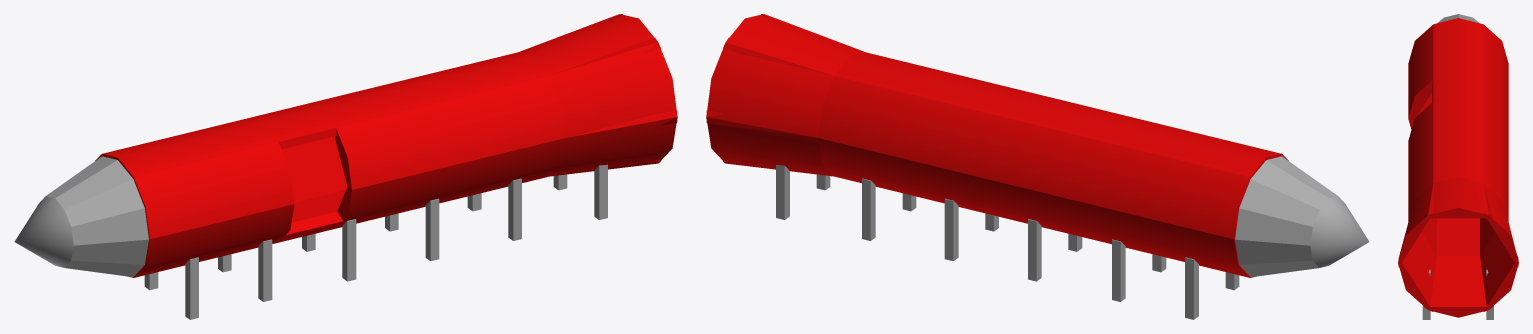
Rendered from SM_Bld_Bomb_01_Collision.fbx.
The picture shows the model from 3 angles, left to right: view 1: azimuth 30°, elevation 25°; view 2: azimuth 150°, elevation 25°; view 3: azimuth 270°, elevation 25°; orthographic projection. The views are drawn at different scales.
Parts seen in each view (by area): view 1: SM_Bld_Bomb_01_Collision; view 2: SM_Bld_Bomb_01_Collision; view 3: SM_Bld_Bomb_01_Collision.
Part boxes in pixels (bbox=[...]): SM_Bld_Bomb_01_Collision: bbox=[14, 14, 677, 319]; SM_Bld_Bomb_01_Collision: bbox=[706, 14, 1369, 319]; SM_Bld_Bomb_01_Collision: bbox=[1398, 14, 1518, 319].
Bounding box in the file's own units: 1314 × 341 × 282.
